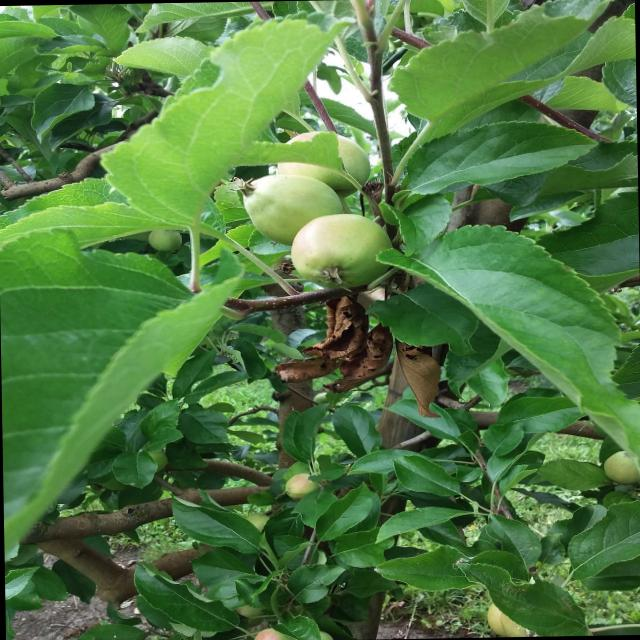-FireBlight-: (276, 297, 442, 417)
